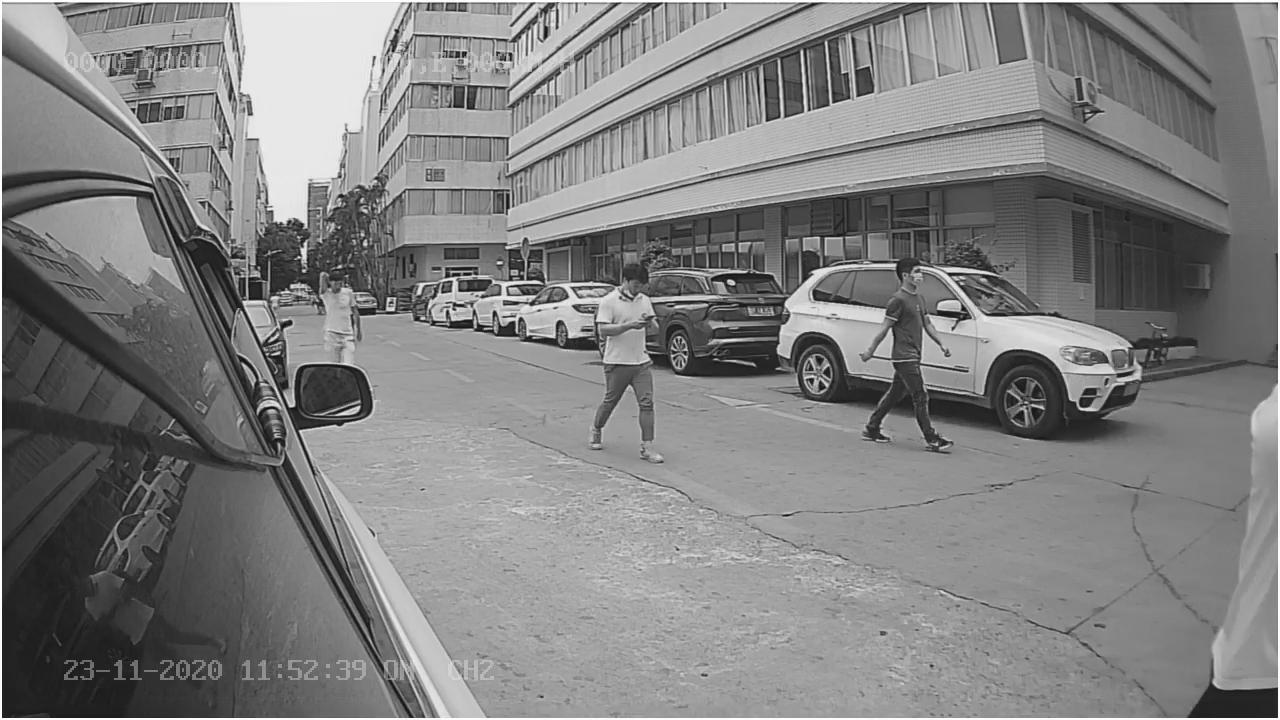person: (590, 260, 663, 456)
